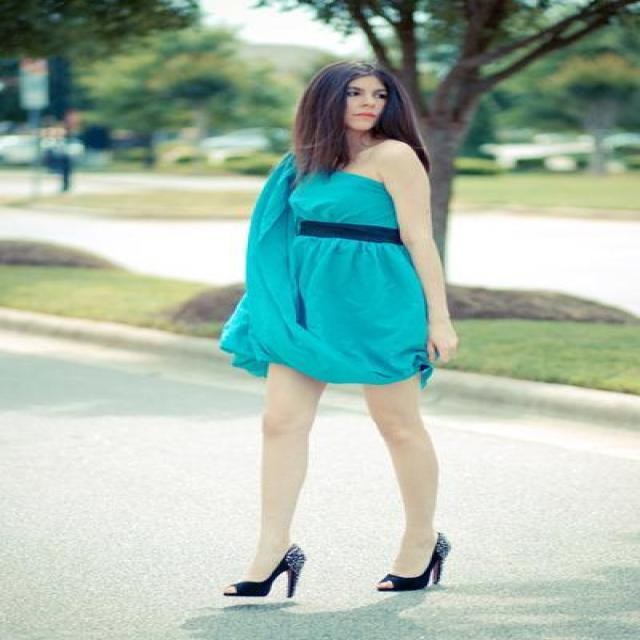dress: (221, 155, 434, 386)
shoe: (224, 539, 448, 596)
